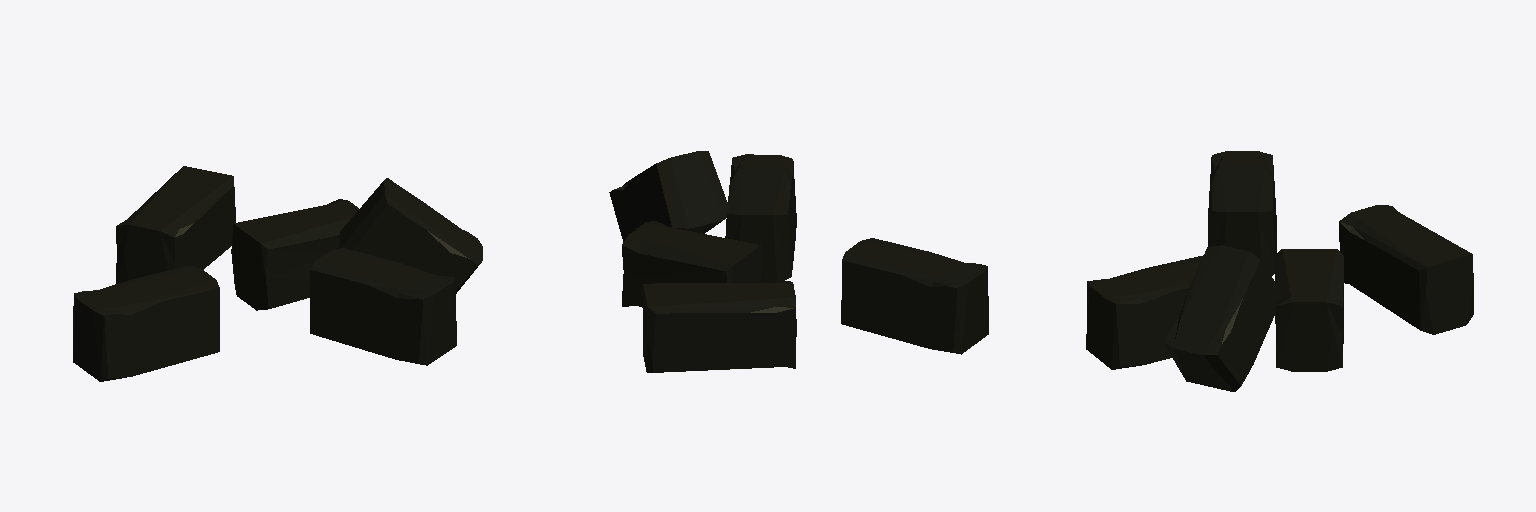
Rendered from Bricks.obj.
3 renders of one model, left to right at view 1: azimuth 30°, elevation 25°; view 2: azimuth 150°, elevation 25°; view 3: azimuth 270°, elevation 25°, orthographic.
Visible parts, largest first — view 1: Bricks_Cube.676; view 2: Bricks_Cube.676; view 3: Bricks_Cube.676.
Part boxes in pixels (x1,y1,x2,y2): Bricks_Cube.676: (73,166,482,381); Bricks_Cube.676: (609,151,988,372); Bricks_Cube.676: (1086,151,1473,391).
Bounding box in the file's own units: 1.82 × 0.5462 × 1.61.